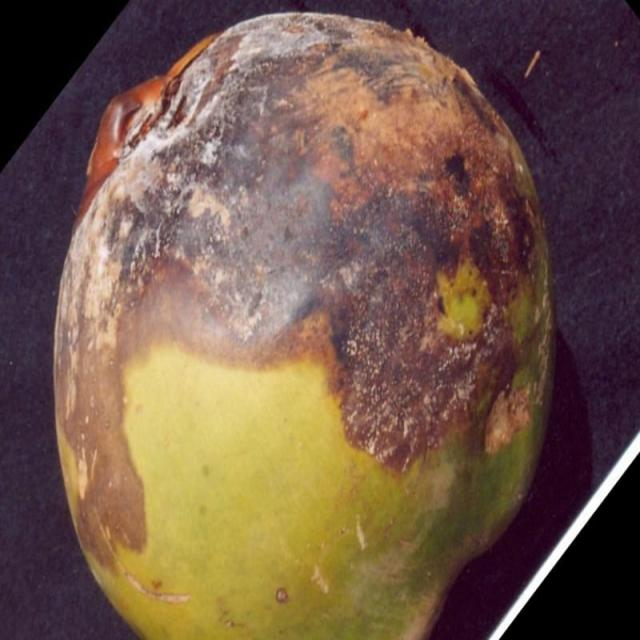damaged: (54, 13, 553, 639)
